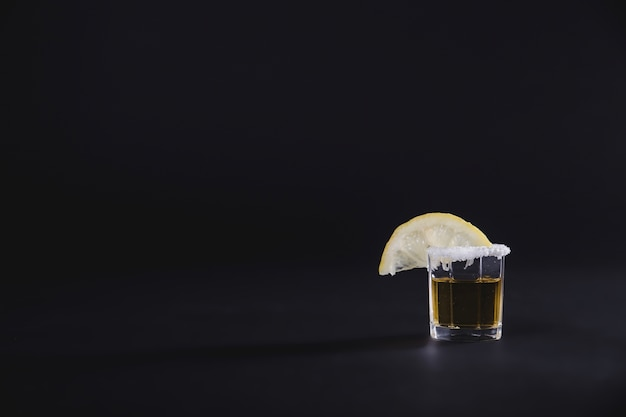alcohol: (377, 206, 513, 343)
